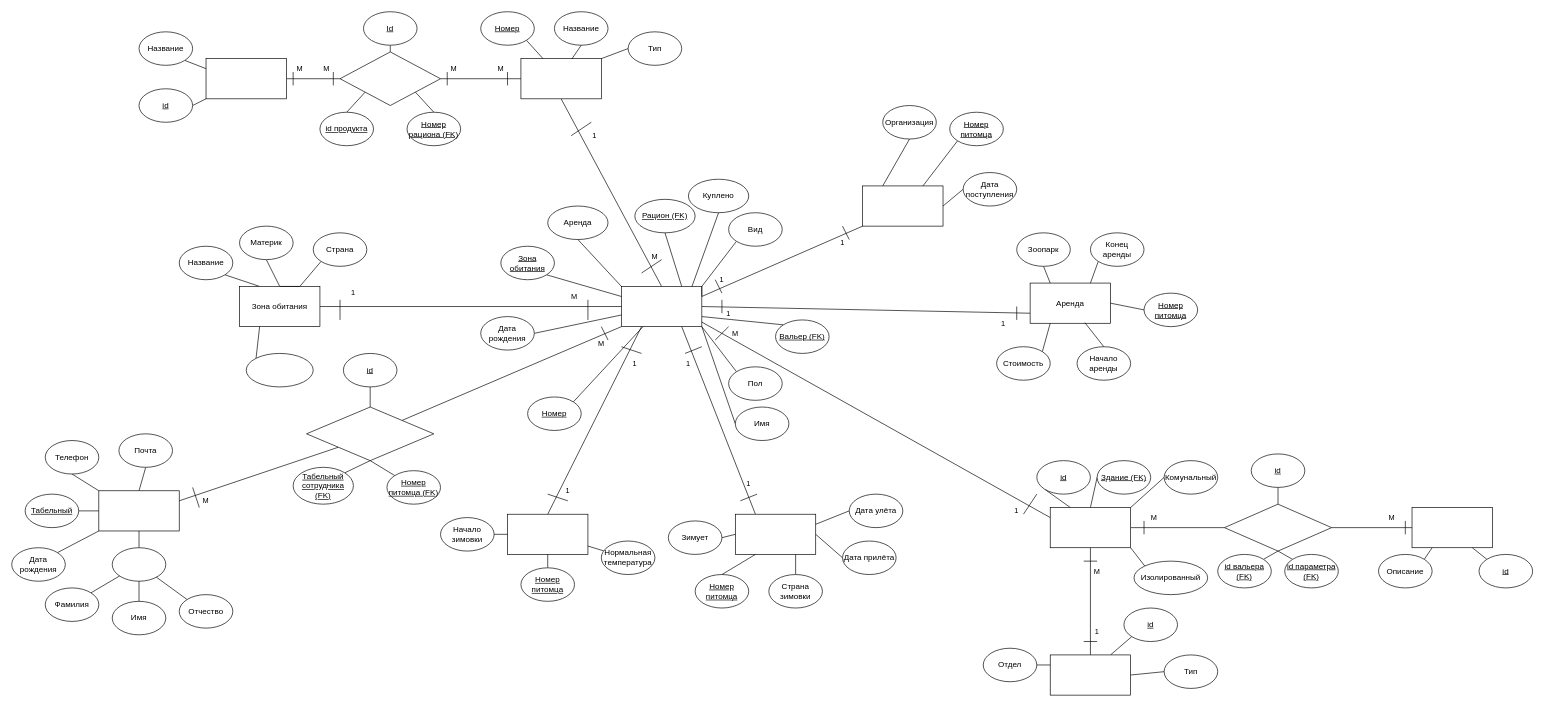
Some shapes in this 1544 by 707 pixel diagram are drawn without their labels. Here are the shapes that lost their labels. From the top down, the centre of each, then its label:
At (x=245, y=78): "Продукт".
At (x=390, y=78): "Содержание рациона".
At (x=560, y=78): "Рацион".
At (x=902, y=205): "Покупка".
At (x=661, y=306): "Питомец".
At (x=279, y=370): "Характеристика".
At (x=370, y=433): "Ветеринар - питомец".
At (x=138, y=510): "Ветеринар".
At (x=1090, y=527): "Вальер".
At (x=1278, y=527): "Параметры вальера".
At (x=1451, y=527): "Параметр".
At (x=547, y=534): "Справка рептилии".
At (x=775, y=534): "Справка птицы".
At (x=139, y=564): "ФИО".
At (x=1090, y=674): "Здание".
